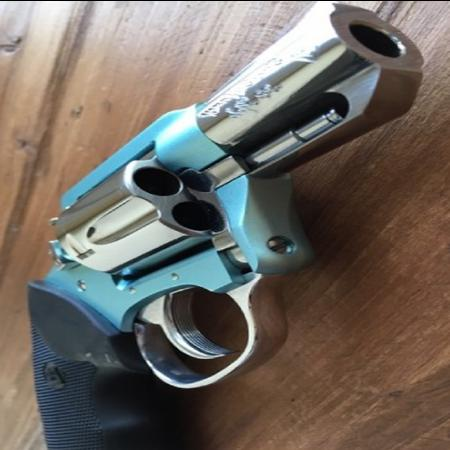Pistol: (32, 4, 420, 448)
